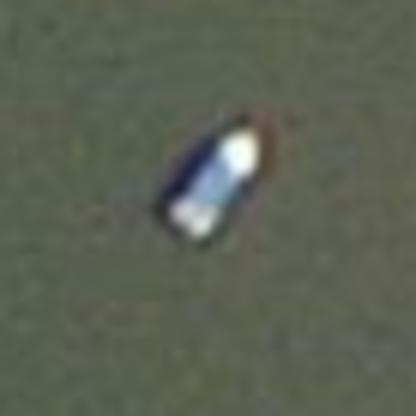ship: (148, 110, 275, 251)
